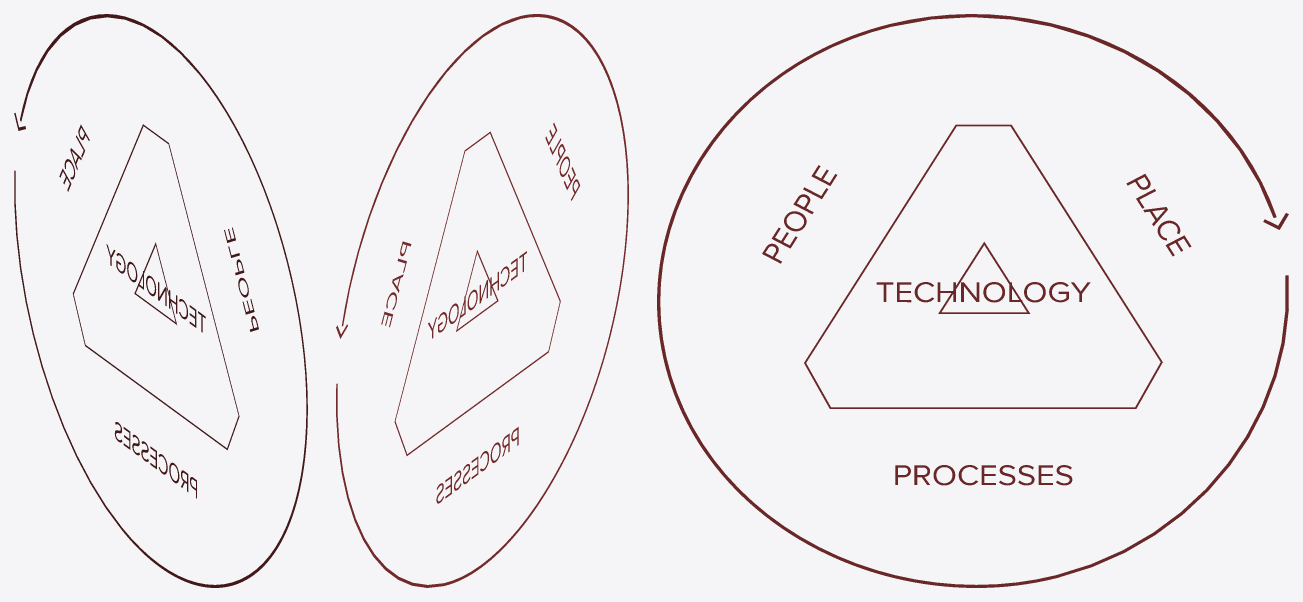
The model's file is 3D-animation-1.glb.
The picture shows the model from 3 angles, left to right: view 1: azimuth 30°, elevation 25°; view 2: azimuth 150°, elevation 25°; view 3: azimuth 270°, elevation 25°; orthographic projection. The views are drawn at different scales.
Visible parts, largest first — view 1: Curve.023, Curve; view 2: Curve.023, Curve; view 3: Curve.023, Curve.
Part boxes in pixels (x1,y1,x2,y2): Curve.023: (14, 14, 307, 587); Curve: (72, 124, 239, 449); Curve.023: (336, 14, 628, 587); Curve: (394, 131, 560, 455); Curve.023: (657, 14, 1288, 587); Curve: (804, 124, 1162, 408).
Size of the model in its own units: 9.54e-07 by 6.4 by 6.38.
